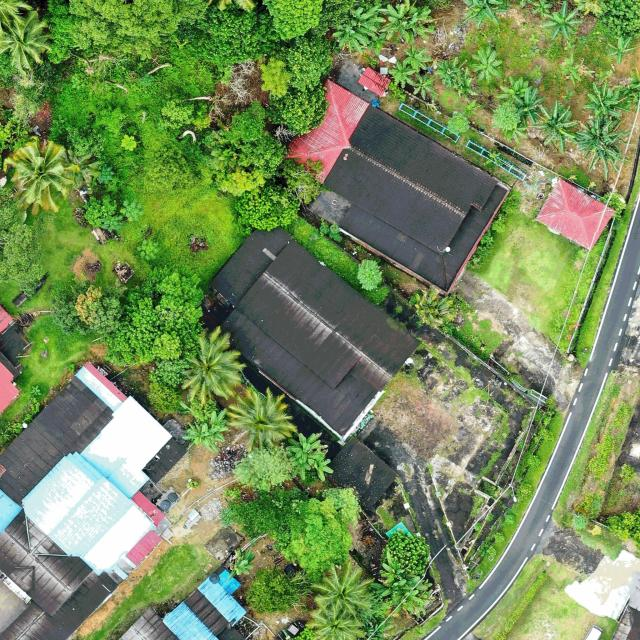Tree: (220, 486, 362, 576), (200, 100, 288, 199), (7, 140, 81, 217), (180, 326, 245, 406), (224, 385, 294, 455), (370, 550, 433, 618), (311, 562, 374, 618), (234, 184, 300, 236), (0, 6, 51, 71), (265, 85, 329, 136), (245, 564, 308, 615), (231, 441, 295, 491), (574, 114, 630, 170), (332, 2, 388, 58), (287, 34, 336, 90), (286, 430, 334, 486), (380, 0, 436, 46), (496, 75, 546, 126), (262, 0, 324, 41), (380, 528, 430, 577), (533, 99, 580, 150), (306, 600, 364, 640), (408, 284, 460, 328), (280, 157, 327, 205), (582, 80, 635, 121), (181, 408, 229, 453), (434, 55, 478, 98), (541, 1, 584, 41), (468, 45, 506, 85), (461, 0, 509, 29), (606, 36, 638, 66), (356, 257, 384, 290), (402, 44, 432, 73), (388, 61, 419, 88), (409, 72, 438, 99)
